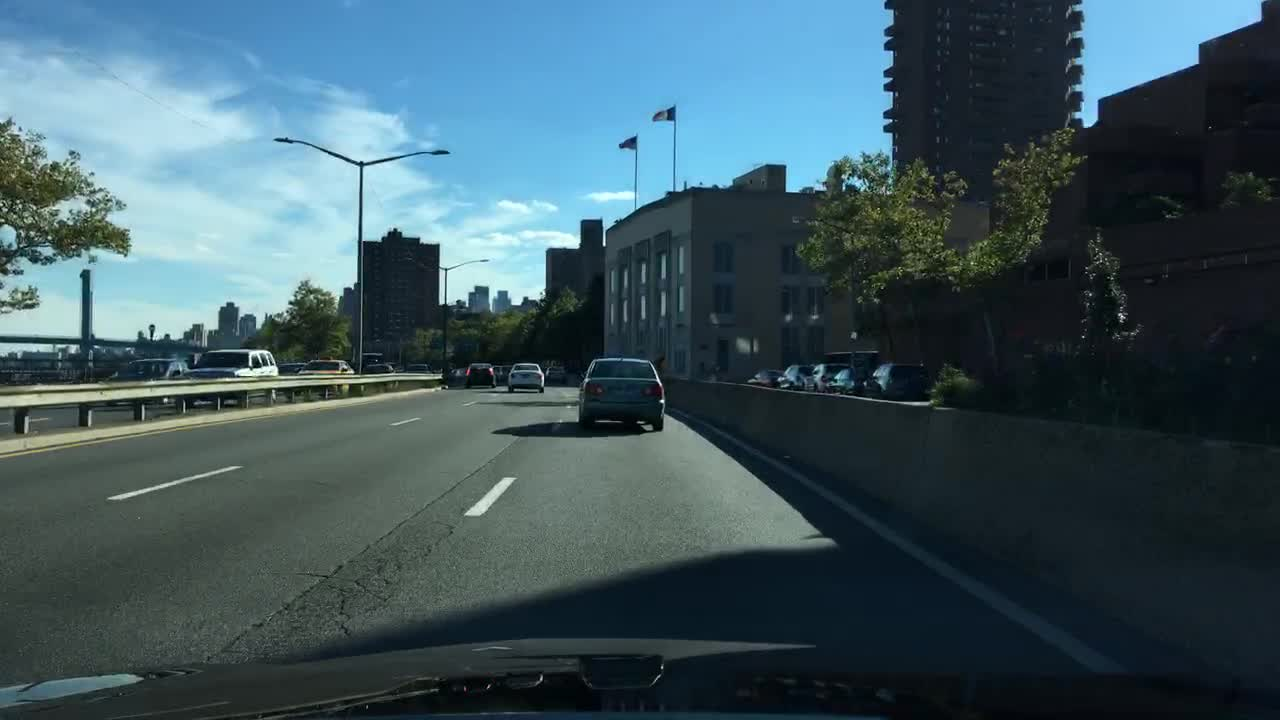car: (578, 356, 665, 431), (187, 346, 280, 379), (864, 363, 930, 401), (101, 356, 187, 381), (806, 363, 840, 395), (511, 361, 545, 393), (464, 364, 494, 391), (826, 369, 859, 391), (305, 359, 353, 374), (776, 364, 801, 388), (746, 369, 774, 386), (545, 366, 567, 386), (496, 366, 512, 388), (284, 361, 306, 374), (446, 368, 461, 386), (369, 365, 393, 374), (413, 364, 431, 374)
